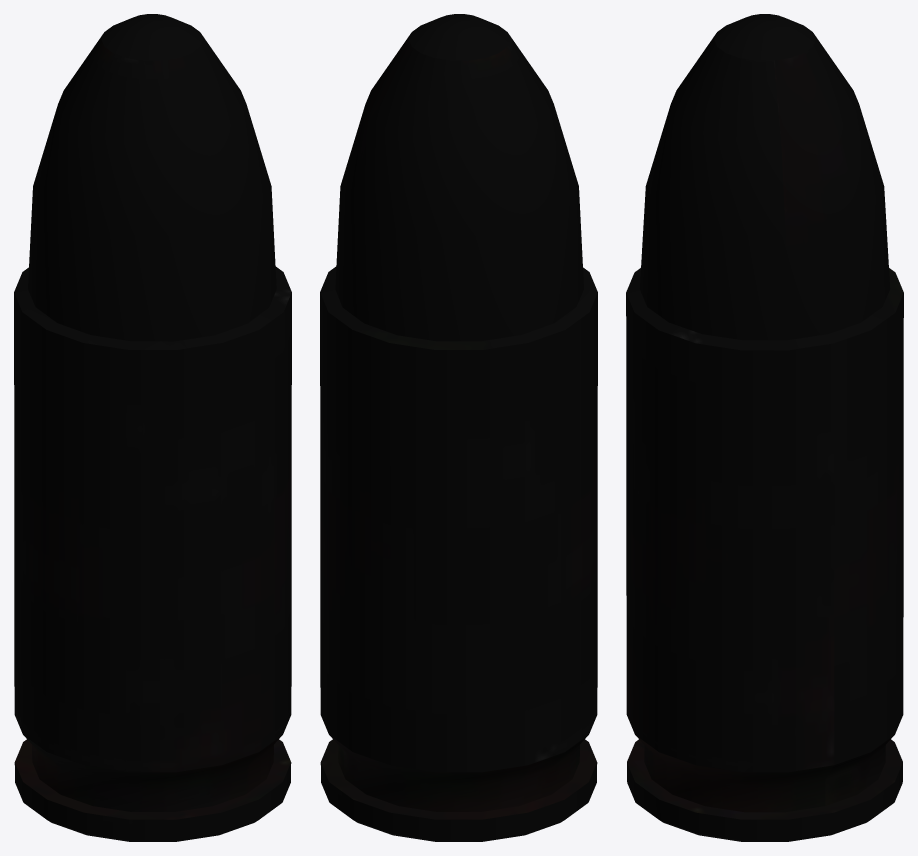
File: 9x19_explosive_unused.glb
The picture shows the model from 3 angles, left to right: view 1: azimuth 30°, elevation 25°; view 2: azimuth 150°, elevation 25°; view 3: azimuth 270°, elevation 25°; orthographic projection.
Visible parts, largest first — view 1: 9x19_explosive_unused, 9x19_bullet; view 2: 9x19_explosive_unused, 9x19_bullet; view 3: 9x19_explosive_unused, 9x19_bullet.
Boxes of the visible parts, <box> form: 9x19_explosive_unused: <box>14,266,291,841</box>; 9x19_bullet: <box>28,14,276,341</box>; 9x19_explosive_unused: <box>320,266,597,841</box>; 9x19_bullet: <box>335,14,583,341</box>; 9x19_explosive_unused: <box>626,268,903,841</box>; 9x19_bullet: <box>639,14,890,340</box>.
Size of the model in its own units: 0.0136 by 0.042 by 0.0138.
Materials: 1 (1 with a texture image).
